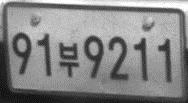1: (156, 37, 174, 84), (132, 36, 149, 82), (36, 32, 52, 78)
2: (107, 36, 130, 82)
9: (82, 34, 105, 79), (11, 31, 32, 76)
부: (57, 42, 80, 78)
